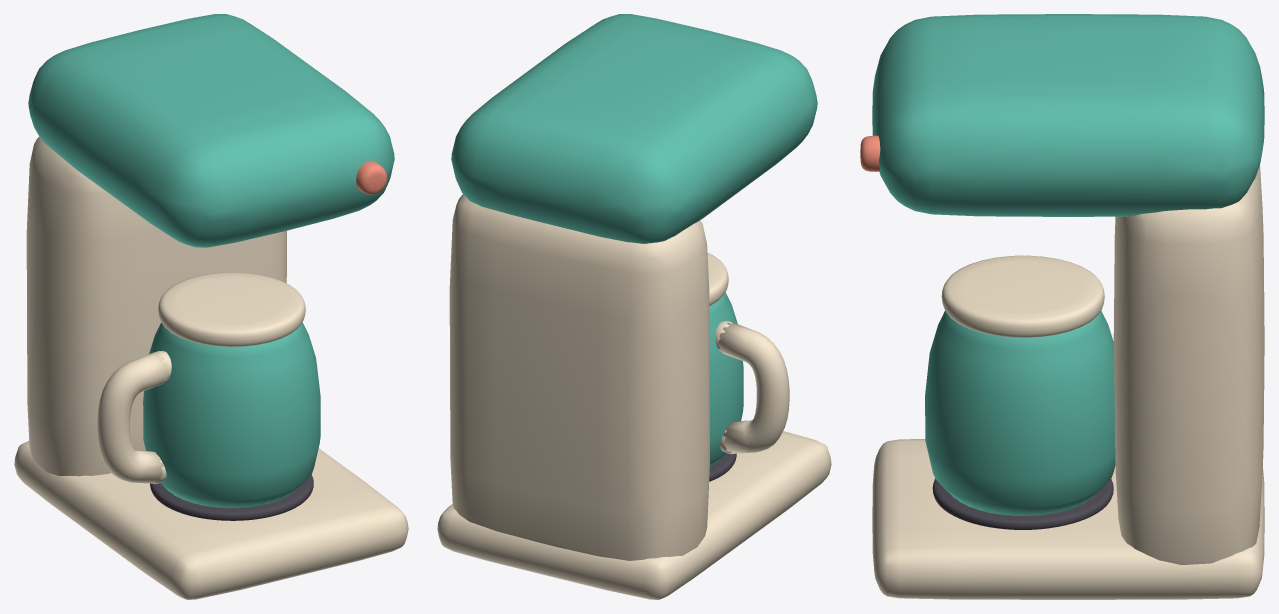
The model's file is coffee_c.glb.
3 views of the same model, side by side, from view 1: azimuth 30°, elevation 25°; view 2: azimuth 150°, elevation 25°; view 3: azimuth 270°, elevation 25° (orthographic). The views are drawn at different scales.
Parts seen in each view (by area): view 1: body; view 2: body; view 3: body.
Boxes of the visible parts, left/top/right/bottom form: body: left=14, top=14, right=408, bottom=599; body: left=437, top=14, right=831, bottom=599; body: left=860, top=14, right=1264, bottom=599.
Bounding box in the file's own units: 0.212 × 0.36 × 0.2681.
